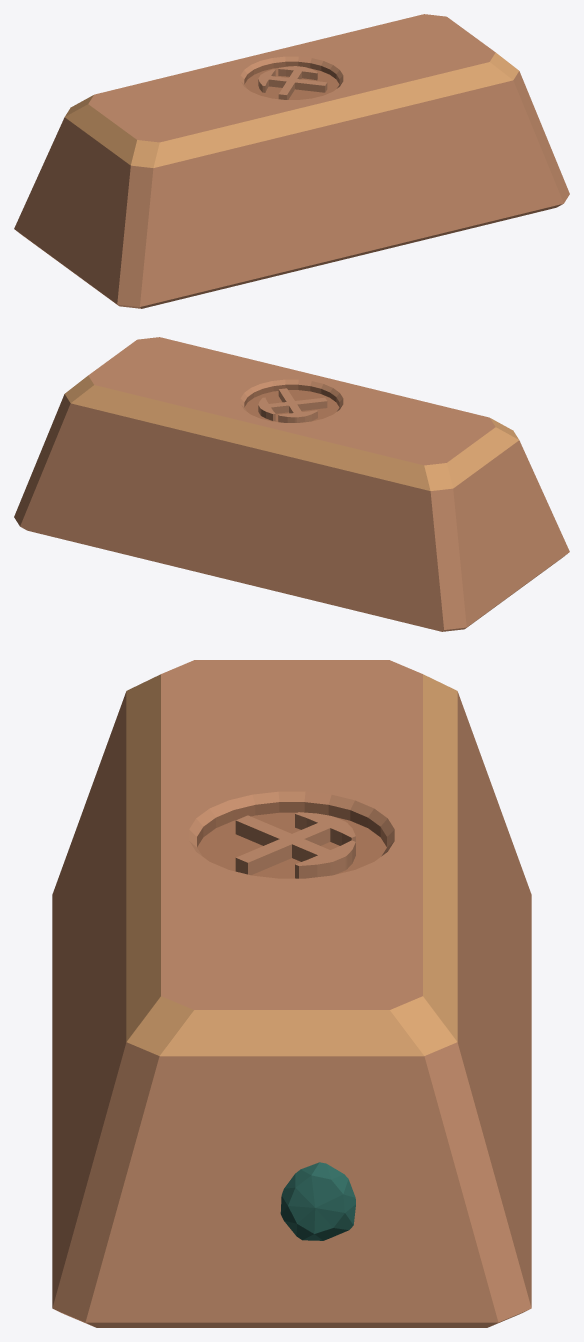
The model's file is copper-ingot-7f0a20.glb.
3 renders of one model, top to bottom at view 1: azimuth 30°, elevation 25°; view 2: azimuth 150°, elevation 25°; view 3: azimuth 270°, elevation 25°, orthographic. The views are drawn at different scales.
Visible parts, largest first — view 1: ingot; view 2: ingot; view 3: ingot.
Boxes of the visible parts, left/top/right/bottom form: ingot: left=14, top=14, right=569, bottom=308; ingot: left=14, top=337, right=569, bottom=631; ingot: left=52, top=660, right=531, bottom=1327.
Size of the model in its own units: 0.24 by 0.07 by 0.11.
